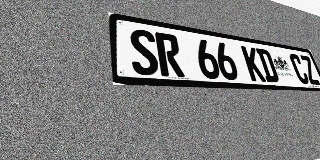6: (193, 38, 222, 79), (212, 41, 240, 80)
C: (288, 53, 311, 84)
D: (255, 48, 280, 83)
K: (241, 46, 266, 82)
R: (154, 32, 185, 77)
S: (128, 28, 160, 76)
Z: (299, 55, 320, 85)
